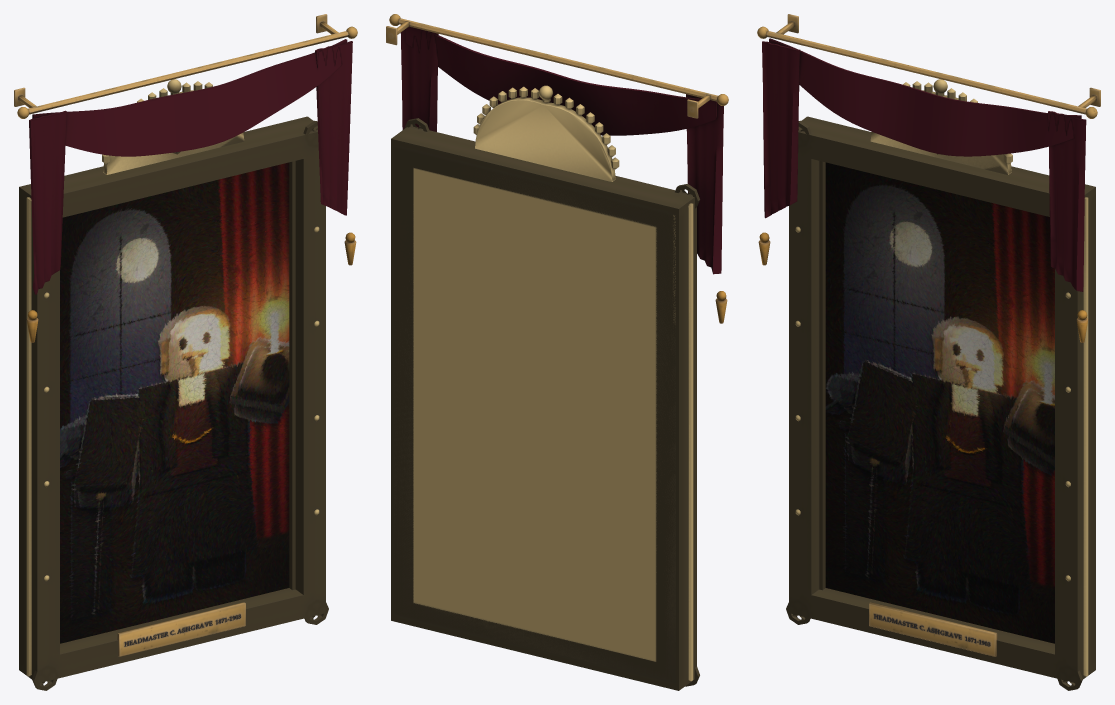
Rendered from PortraitHeadmasterGallery.fbx.
3 views of the same model, side by side, from view 1: azimuth 30°, elevation 25°; view 2: azimuth 150°, elevation 25°; view 3: azimuth 330°, elevation 25° (orthographic).
Visible parts, largest first — view 1: PortraitHeadmasterGallery_Canvas, PortraitHeadmasterGallery_Main; view 2: PortraitHeadmasterGallery_Main; view 3: PortraitHeadmasterGallery_Canvas, PortraitHeadmasterGallery_Main.
Boxes of the visible parts, x1,y1,x2,y2 form: PortraitHeadmasterGallery_Canvas: [60, 162, 289, 643]; PortraitHeadmasterGallery_Main: [14, 14, 357, 690]; PortraitHeadmasterGallery_Main: [386, 14, 728, 690]; PortraitHeadmasterGallery_Canvas: [825, 162, 1054, 643]; PortraitHeadmasterGallery_Main: [757, 14, 1100, 690].
Bounding box in the file's own units: 640 × 1078 × 104.
